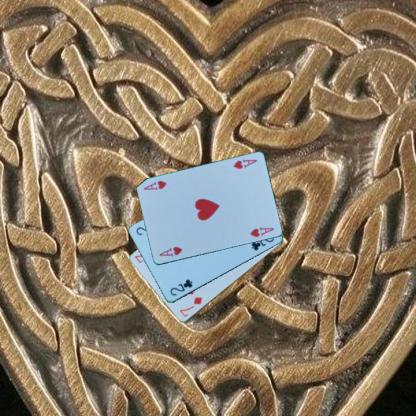2c: (168, 277, 194, 297)
7d: (177, 295, 203, 318)
Ah: (156, 244, 184, 258), (231, 156, 258, 170)
